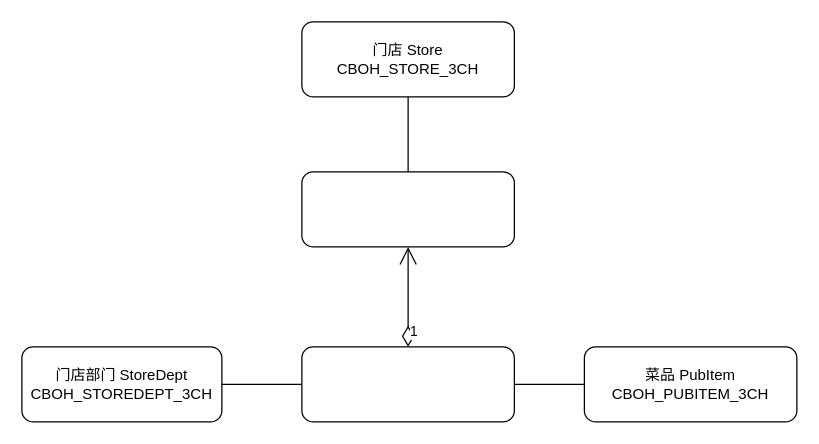
This 819x444 diagram has some shape labels left out. The centre of each missing label's shape, as x and y in pixels:
"打印方案 Printprogt CBOH_PRINTPROGT_3CH" belongs at [407,209].
"打印方案明细 Printprog CBOH_PRINTPROG_3CH" belongs at [407,384].
